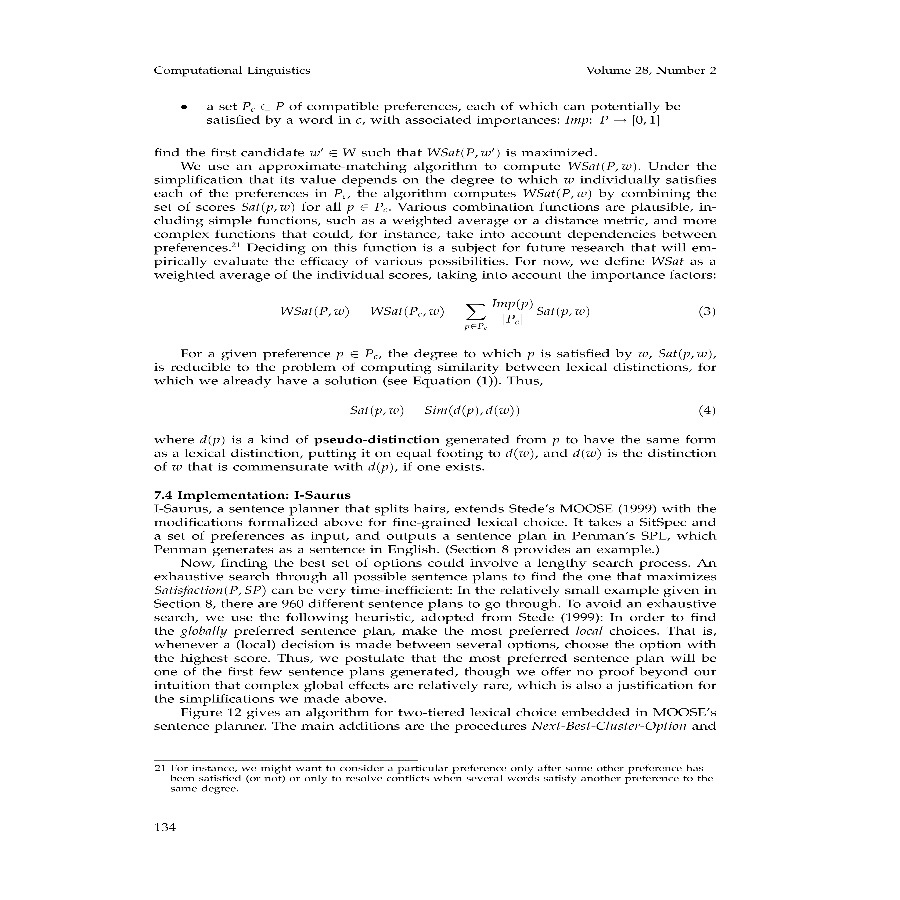eq: (281, 296, 595, 334), (345, 403, 522, 419)
